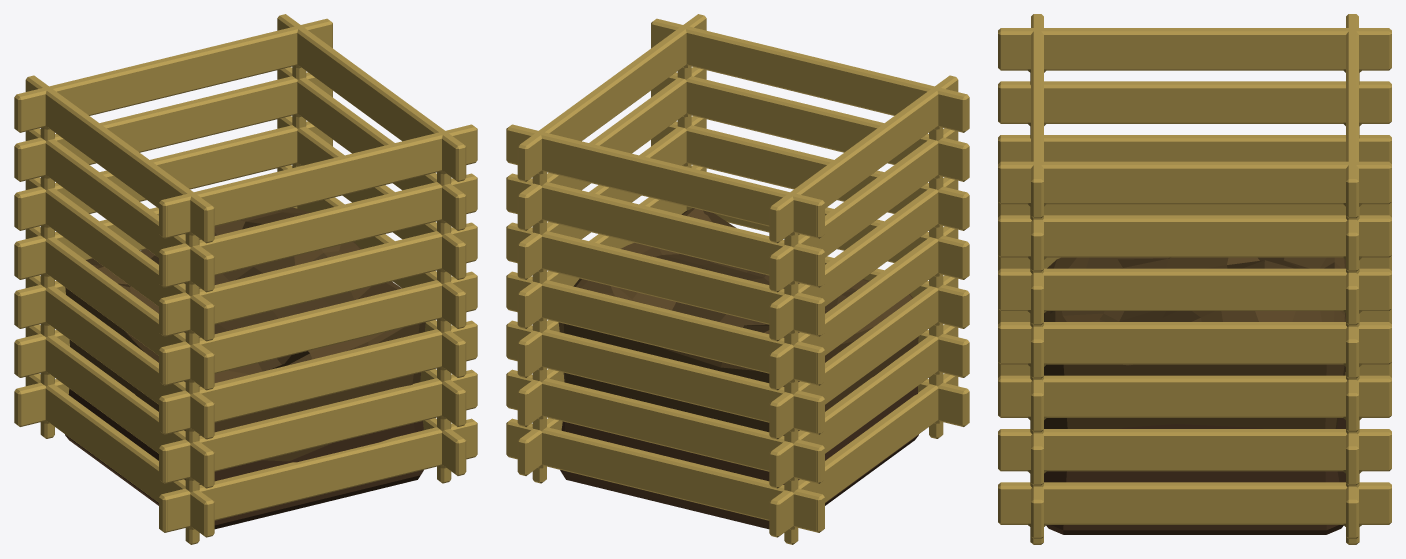
The model's file is compost.fbx.
3 views of the same model, side by side, from view 1: azimuth 30°, elevation 25°; view 2: azimuth 150°, elevation 25°; view 3: azimuth 270°, elevation 25° (orthographic). The views are drawn at different scales.
Visible parts, largest first — view 1: bois_compost, compost; view 2: bois_compost, compost; view 3: bois_compost, compost.
Boxes of the visible parts, x1=… form: bois_compost: x1=14, y1=14, x2=477, y2=544; compost: x1=65, y1=207, x2=425, y2=529; bois_compost: x1=506, y1=14, x2=969, y2=544; compost: x1=558, y1=208, x2=918, y2=529; bois_compost: x1=998, y1=14, x2=1391, y2=544; compost: x1=1044, y1=257, x2=1345, y2=534.
Bounding box in the file's own units: 201 × 214 × 200.
